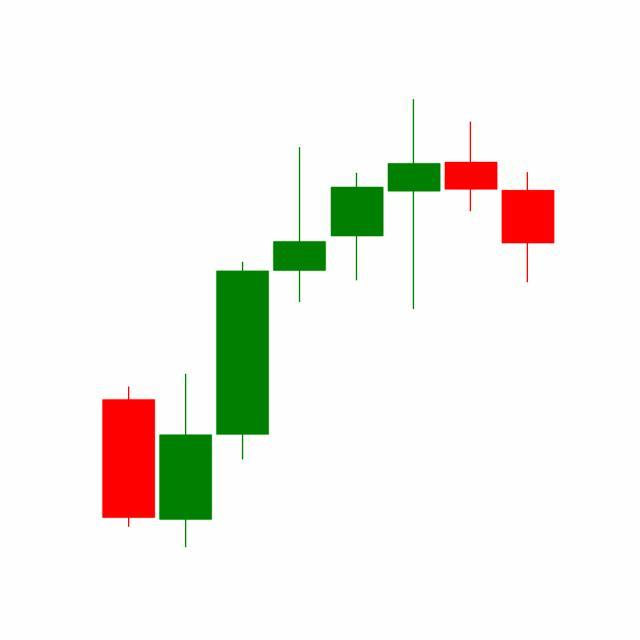Hikkake Pattern: (270, 99, 555, 313)
